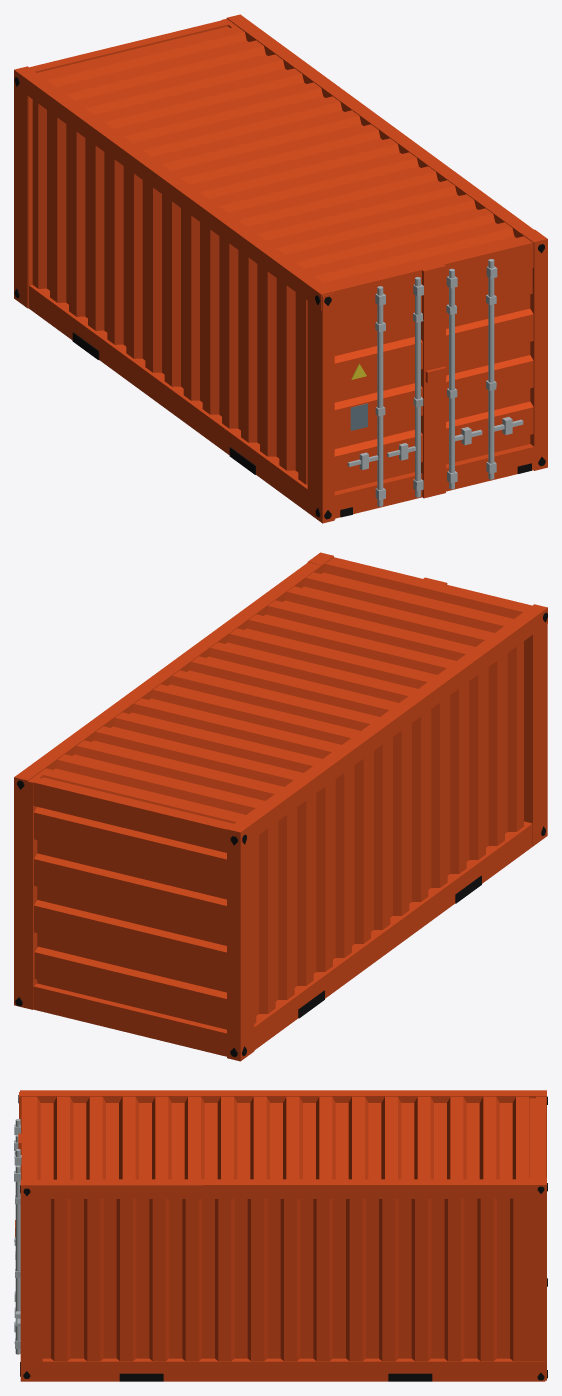
File: CONTENEDOR.gltf
3 views of the same model, one above another, from view 1: azimuth 30°, elevation 25°; view 2: azimuth 150°, elevation 25°; view 3: azimuth 270°, elevation 25° (orthographic). The views are drawn at different scales.
Parts seen in each view (by area): view 1: node_MeshObject-767043968-PolyPaper14; view 2: node_MeshObject-767043968-PolyPaper14; view 3: node_MeshObject-767043968-PolyPaper14.
Part boxes in pixels (x1=…): node_MeshObject-767043968-PolyPaper14: x1=14, y1=14, x2=547, y2=523; node_MeshObject-767043968-PolyPaper14: x1=14, y1=552, x2=547, y2=1061; node_MeshObject-767043968-PolyPaper14: x1=14, y1=1090, x2=547, y2=1381.
Size of the model in its own units: 1.34 by 1.28 by 3.16.
